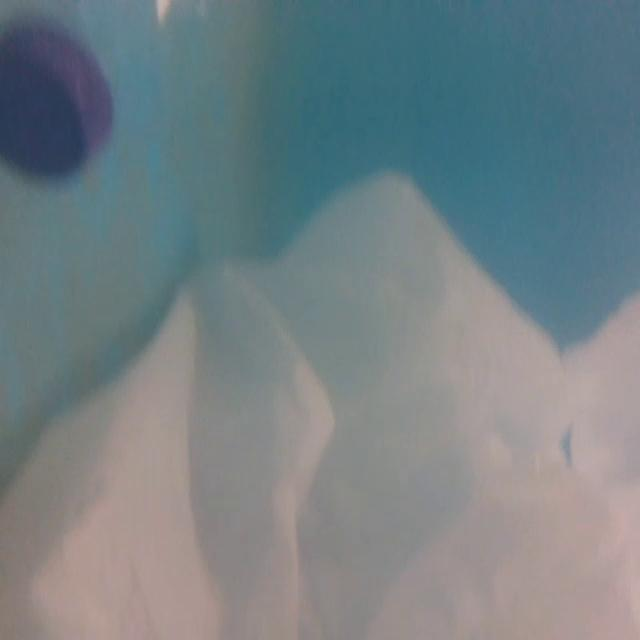plastic bags: (2, 174, 640, 640)
plastic bottle: (0, 0, 228, 203)
